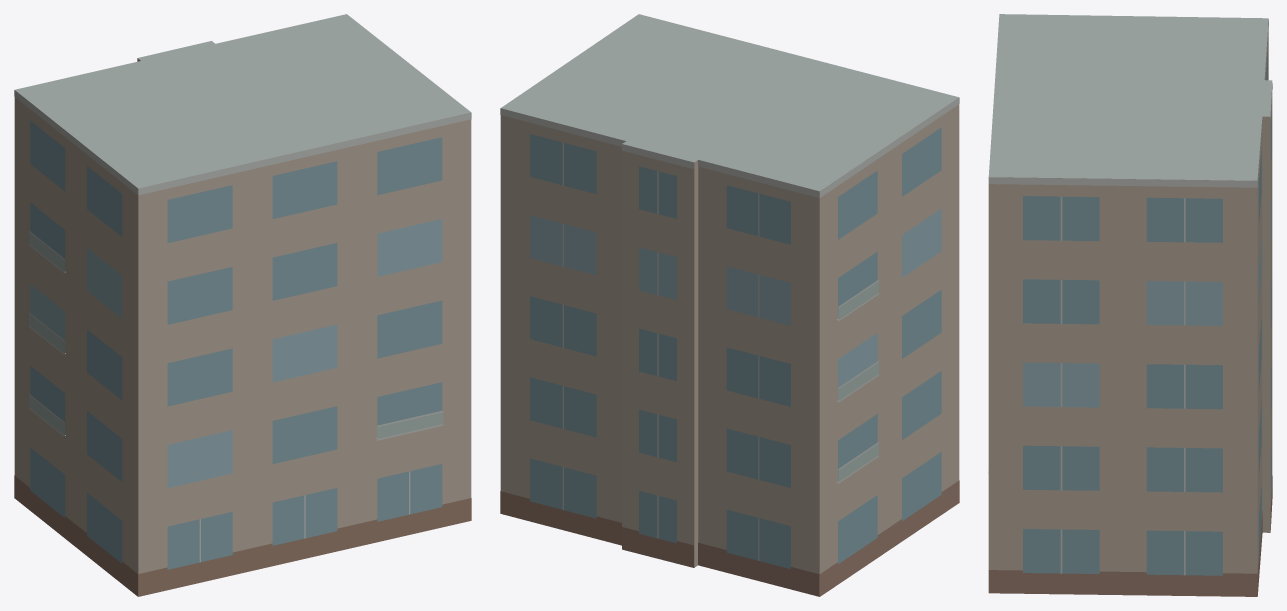
Rendered from survey-upis-32702931.glb.
3 views of the same model, side by side, from view 1: azimuth 30°, elevation 25°; view 2: azimuth 150°, elevation 25°; view 3: azimuth 270°, elevation 25° (orthographic). The views are drawn at different scales.
Parts seen in each view (by area): view 1: survey-upis-32702931.tmp; view 2: survey-upis-32702931.tmp; view 3: survey-upis-32702931.tmp.
Part boxes in pixels (box(x1,y1,x2,y2)): survey-upis-32702931.tmp: box(14, 14, 471, 596); survey-upis-32702931.tmp: box(500, 14, 959, 596); survey-upis-32702931.tmp: box(988, 14, 1272, 596).
Bounding box in the file's own units: 12.56 × 14.6 × 9.04.
